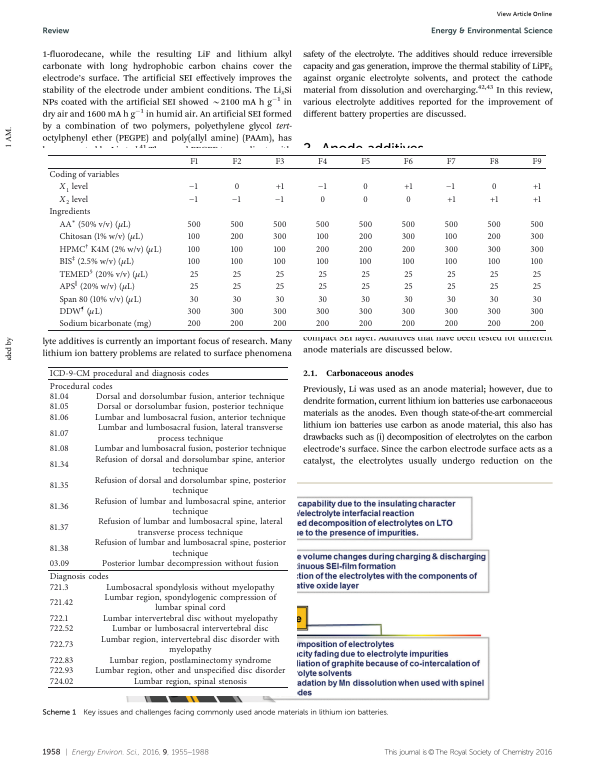borderless: (46, 153, 546, 330), (47, 365, 288, 687)
cell: (93, 538, 287, 560), (97, 423, 283, 445), (93, 476, 287, 497), (93, 497, 287, 518), (94, 455, 286, 476), (97, 518, 283, 539), (100, 635, 280, 656), (103, 593, 277, 614), (93, 444, 287, 455), (94, 413, 286, 424), (94, 666, 286, 677), (95, 392, 285, 403), (101, 559, 279, 570), (102, 614, 278, 625), (96, 403, 284, 413), (58, 240, 163, 257), (48, 369, 209, 380), (111, 624, 269, 635), (105, 583, 275, 593), (108, 656, 272, 666), (58, 266, 149, 282), (58, 229, 144, 244), (58, 291, 143, 306), (58, 278, 136, 294), (58, 253, 135, 269), (58, 216, 132, 232), (133, 677, 247, 687), (58, 319, 152, 330), (58, 303, 104, 319), (48, 170, 120, 180), (48, 572, 109, 583), (48, 382, 113, 392), (58, 191, 89, 208), (58, 179, 89, 195), (48, 207, 91, 218), (48, 598, 74, 609), (48, 624, 74, 635), (48, 640, 74, 651), (48, 666, 74, 677), (48, 656, 74, 666), (48, 677, 74, 687), (48, 559, 70, 570), (48, 392, 69, 403), (48, 413, 69, 424), (48, 444, 69, 455), (48, 460, 69, 471), (48, 481, 69, 492), (48, 502, 69, 513), (48, 614, 69, 625), (48, 403, 69, 413), (48, 429, 69, 439), (48, 523, 69, 533), (48, 544, 69, 554), (48, 583, 69, 593), (188, 191, 200, 207), (231, 191, 243, 207), (274, 191, 286, 207), (188, 179, 200, 194), (317, 179, 329, 194), (229, 232, 245, 243), (229, 319, 245, 330), (446, 179, 457, 194), (272, 232, 287, 243), (358, 232, 373, 243), (401, 232, 416, 243), (487, 232, 502, 243), (530, 232, 545, 243), (315, 244, 330, 255), (358, 244, 373, 255), (401, 244, 416, 255), (444, 244, 459, 255), (487, 244, 502, 255), (530, 244, 545, 255), (187, 319, 202, 330), (272, 319, 287, 330), (315, 319, 330, 330), (358, 319, 373, 330), (401, 319, 416, 330), (444, 319, 459, 330), (487, 319, 502, 330), (530, 319, 545, 330), (229, 220, 245, 230), (229, 307, 245, 317), (187, 232, 201, 243), (316, 232, 330, 243), (444, 232, 458, 243), (187, 244, 201, 255), (230, 244, 244, 255), (273, 244, 287, 255), (187, 257, 201, 268), (230, 257, 244, 268), (273, 257, 287, 268), (316, 257, 330, 268), (359, 257, 373, 268), (401, 257, 415, 268), (444, 257, 458, 268), (487, 257, 501, 268), (530, 257, 544, 268), (187, 220, 202, 230), (272, 220, 287, 230), (315, 220, 330, 230), (358, 220, 373, 230), (401, 220, 416, 230), (444, 220, 459, 230), (487, 220, 502, 230), (530, 220, 545, 230), (187, 307, 202, 317), (272, 307, 287, 317), (315, 307, 330, 317), (358, 307, 373, 317), (401, 307, 416, 317), (444, 307, 459, 317), (487, 307, 502, 317), (530, 307, 545, 317), (274, 157, 285, 168), (317, 157, 328, 168), (360, 157, 371, 168), (403, 157, 414, 168), (446, 157, 457, 168), (489, 157, 500, 168), (532, 157, 543, 168), (403, 182, 414, 193), (360, 269, 371, 280), (403, 269, 414, 280), (446, 269, 457, 280), (317, 294, 328, 305), (360, 294, 371, 305), (403, 294, 414, 305), (446, 294, 457, 305), (189, 157, 199, 168), (232, 157, 242, 168), (275, 182, 285, 193), (532, 182, 542, 193), (189, 269, 199, 280), (232, 269, 242, 280), (275, 269, 285, 280), (318, 269, 328, 280), (489, 269, 499, 280), (532, 269, 542, 280), (360, 282, 371, 292), (403, 282, 414, 292), (446, 282, 457, 292), (189, 294, 199, 305), (232, 294, 242, 305), (275, 294, 285, 305), (489, 294, 499, 305), (532, 294, 542, 305), (446, 195, 456, 205), (489, 195, 499, 205), (532, 195, 542, 205), (189, 282, 199, 292), (232, 282, 242, 292), (275, 282, 285, 292), (318, 282, 328, 292), (489, 282, 499, 292), (532, 282, 542, 292), (362, 182, 369, 193), (362, 195, 369, 205), (405, 195, 412, 205), (234, 182, 240, 193), (491, 182, 497, 193), (320, 195, 326, 205)
